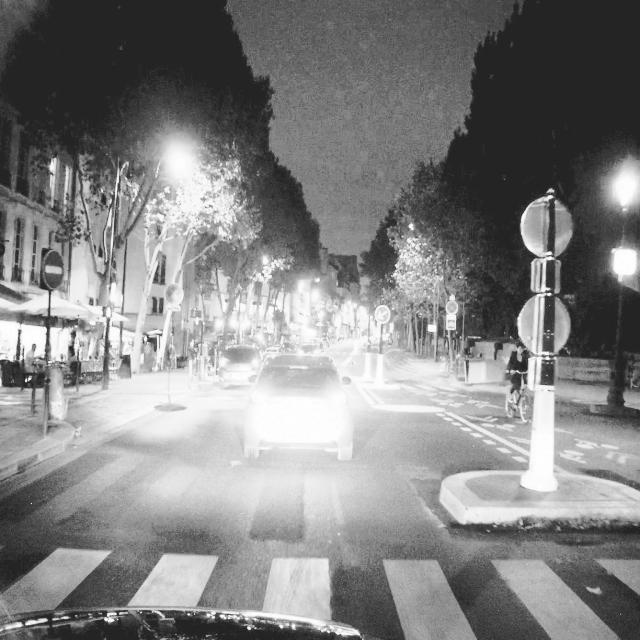Car: (238, 350, 354, 459)
Light: (612, 168, 640, 213)
Sign: (520, 197, 574, 258), (517, 294, 571, 354), (531, 259, 561, 294), (42, 249, 66, 289), (165, 284, 183, 306), (375, 305, 391, 324)
